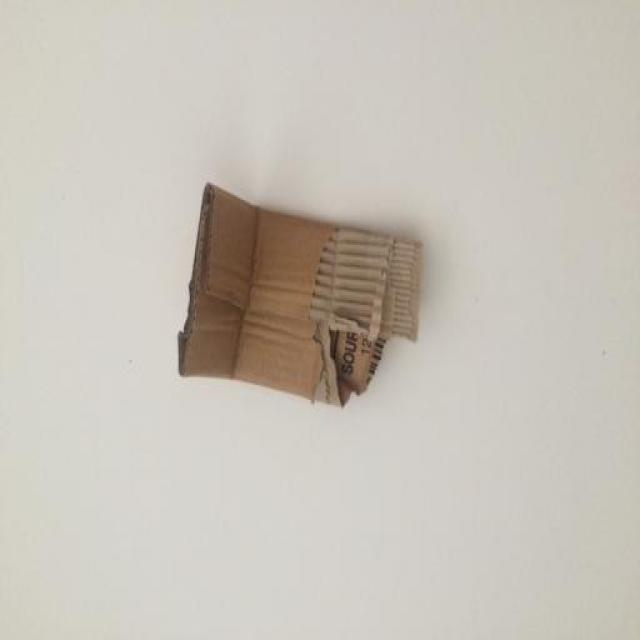class_name: (172, 176, 432, 419)
